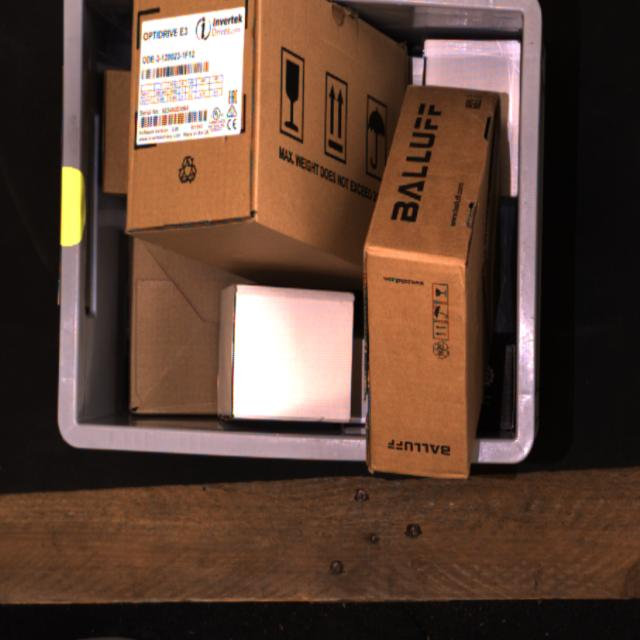Cardboard Box: (129, 0, 408, 291), (364, 85, 499, 479), (132, 233, 287, 423), (424, 35, 519, 195), (102, 72, 131, 189)
